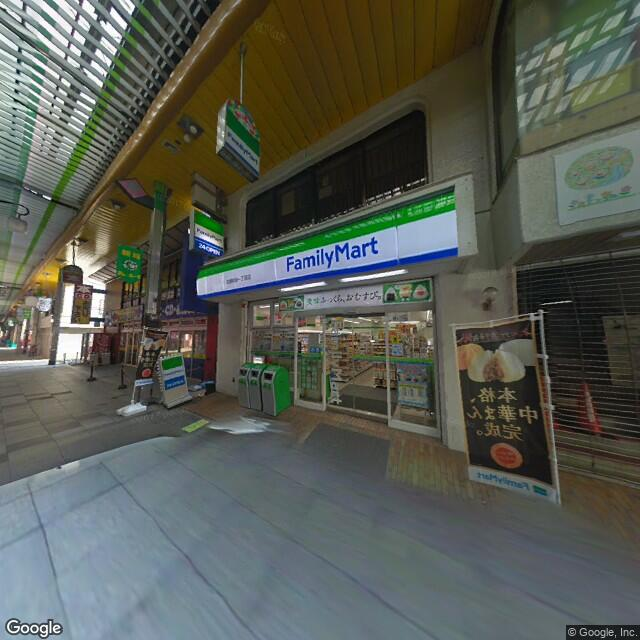family_mart: (192, 184, 463, 298), (221, 112, 262, 172), (189, 203, 225, 257), (155, 354, 186, 391)
